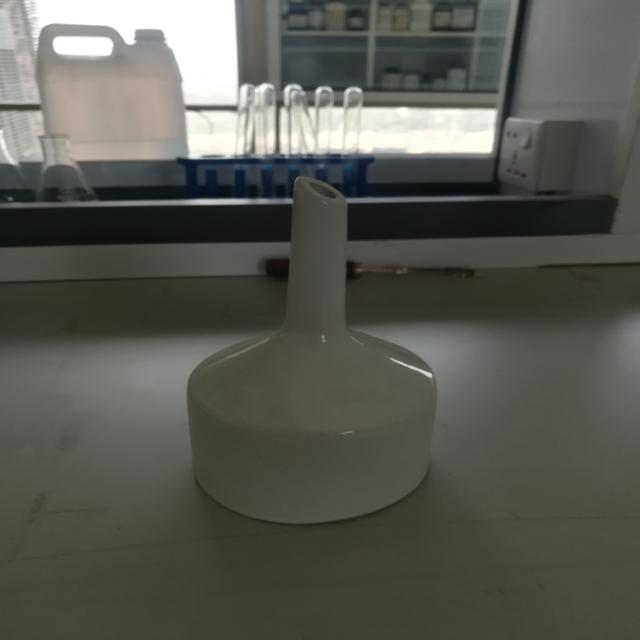Buchner_Funnel: (123, 155, 494, 552)
